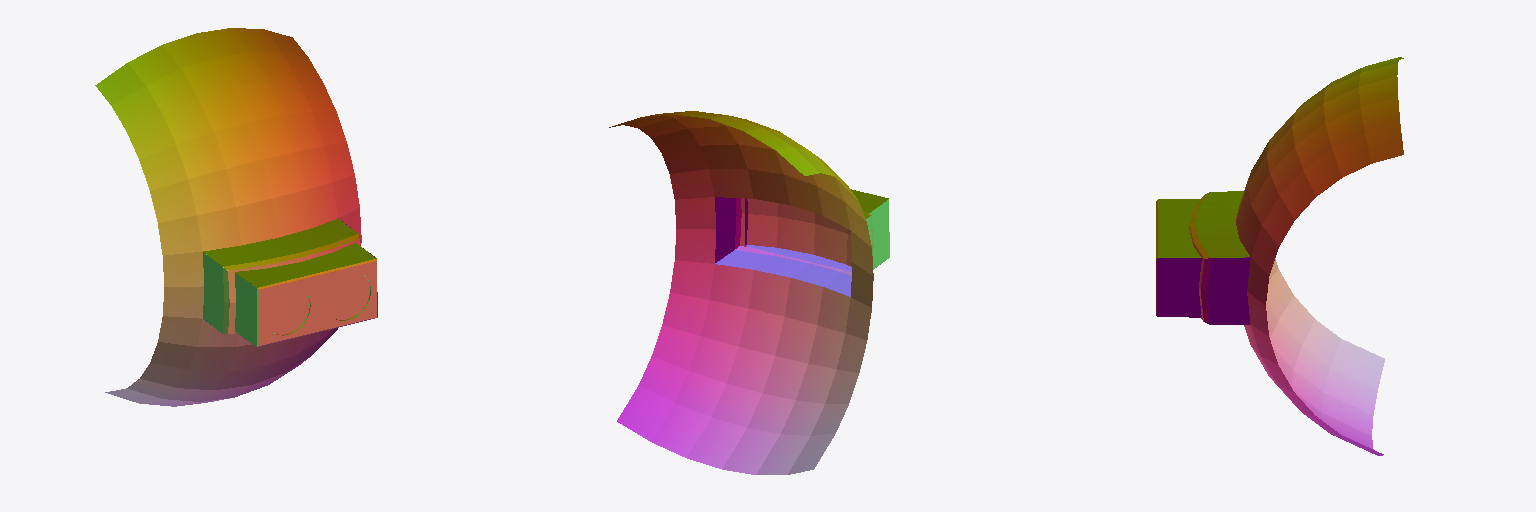
3 renders of one model, left to right at view 1: azimuth 30°, elevation 25°; view 2: azimuth 150°, elevation 25°; view 3: azimuth 270°, elevation 25°, orthographic.
Visible parts, largest first — view 1: part_MissileTurretBarrels_Sphere; view 2: part_MissileTurretBarrels_Sphere; view 3: part_MissileTurretBarrels_Sphere.
Part boxes in pixels (x1,y1,x2,y2): part_MissileTurretBarrels_Sphere: (95,28,377,406); part_MissileTurretBarrels_Sphere: (609,111,889,474); part_MissileTurretBarrels_Sphere: (1156,57,1403,455).
Bounding box in the file's own units: 3.11 × 5.41 × 3.38.
Materials: 1 (1 with a texture image).